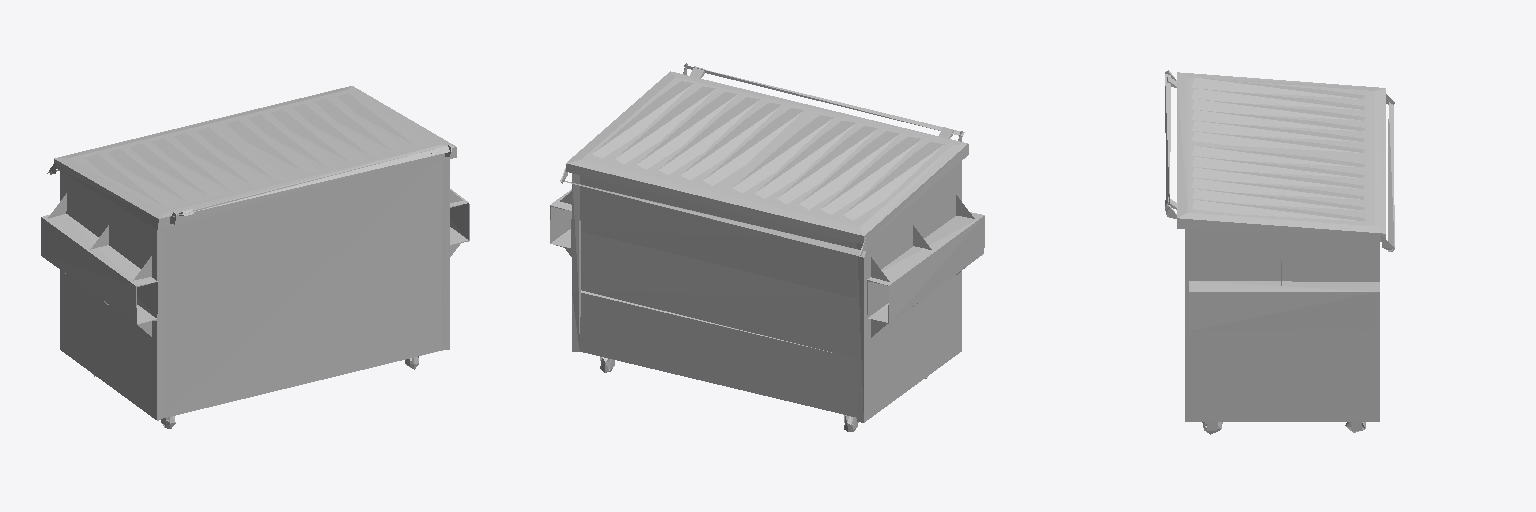
File: Dumpster LOD.obj
3 renders of one model, left to right at view 1: azimuth 30°, elevation 25°; view 2: azimuth 150°, elevation 25°; view 3: azimuth 270°, elevation 25°, orthographic.
Visible parts, largest first — view 1: Dumpster; view 2: Dumpster; view 3: Dumpster.
Part boxes in pixels (bbox=[...]): Dumpster: bbox=[41, 86, 469, 428]; Dumpster: bbox=[550, 63, 984, 431]; Dumpster: bbox=[1165, 70, 1394, 434].
Bounding box in the file's own units: 529 × 356 × 314.